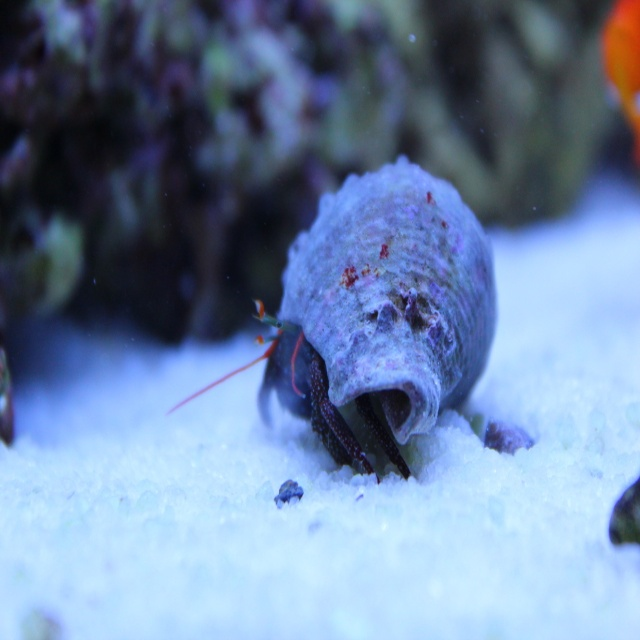Fish: (256, 152, 505, 484)
